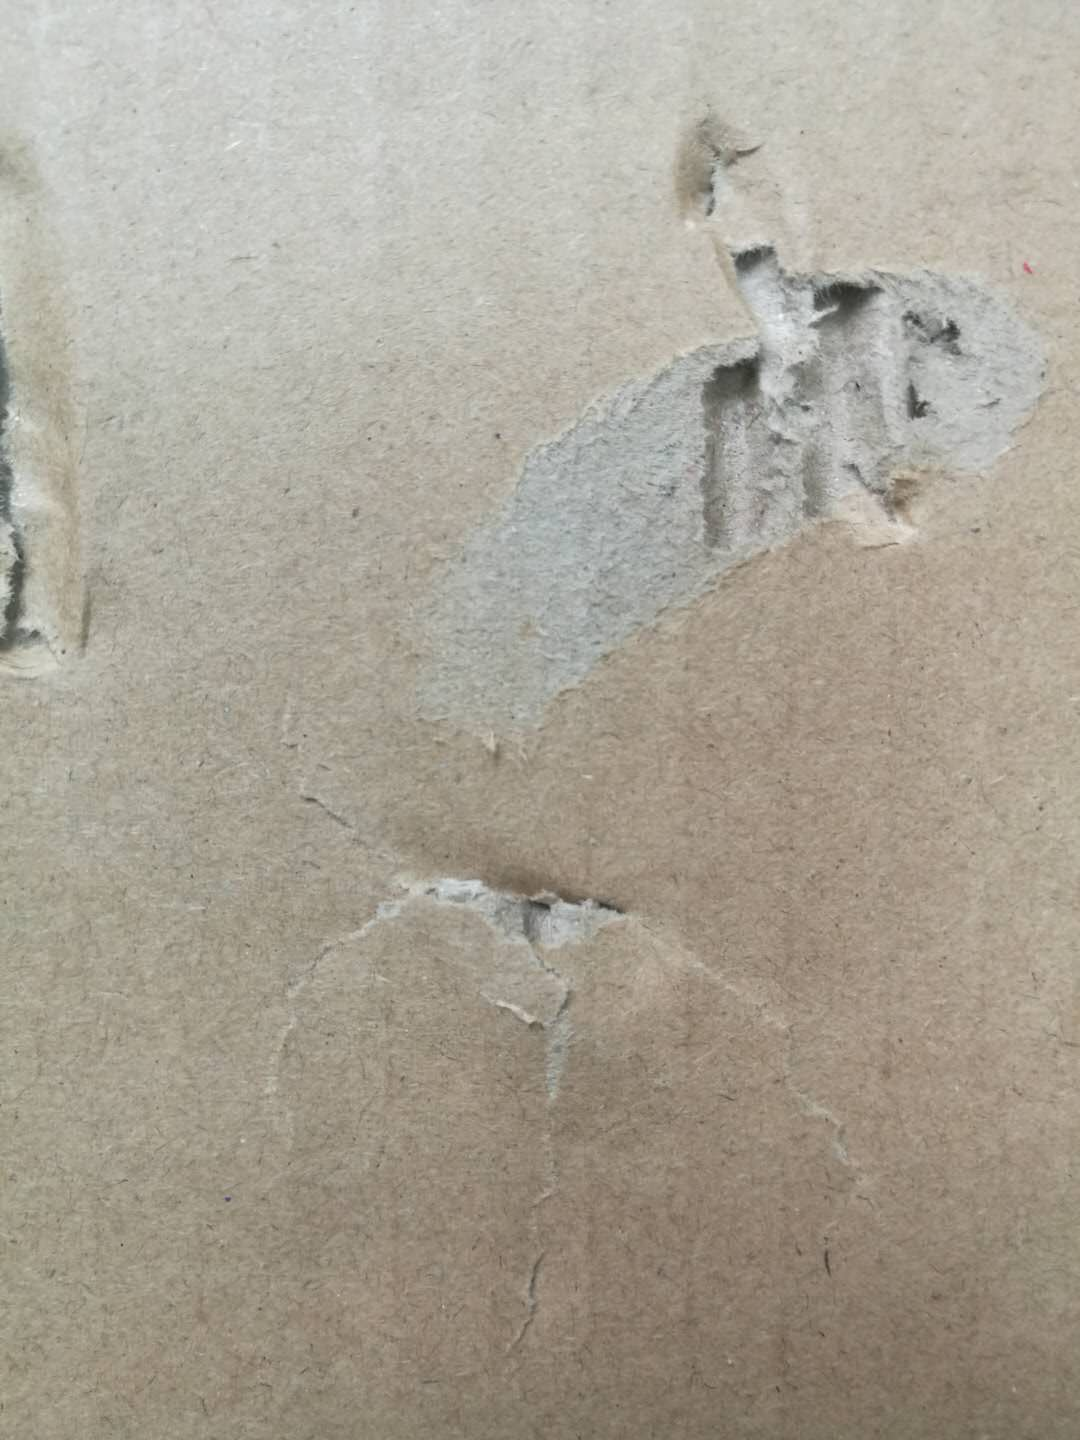defect: (383, 78, 1080, 777), (248, 684, 902, 1379), (1, 105, 129, 708)
